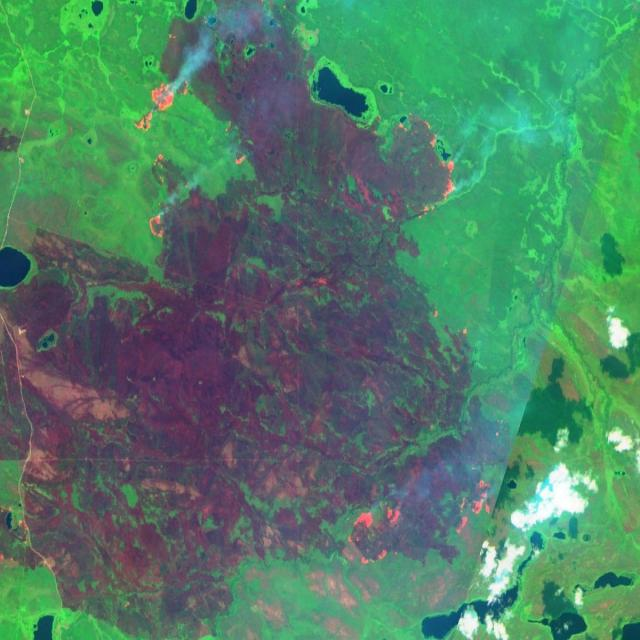fire: (337, 472, 497, 568), (382, 103, 463, 230), (126, 56, 202, 138), (138, 149, 188, 251), (428, 296, 478, 350), (223, 117, 249, 172)
